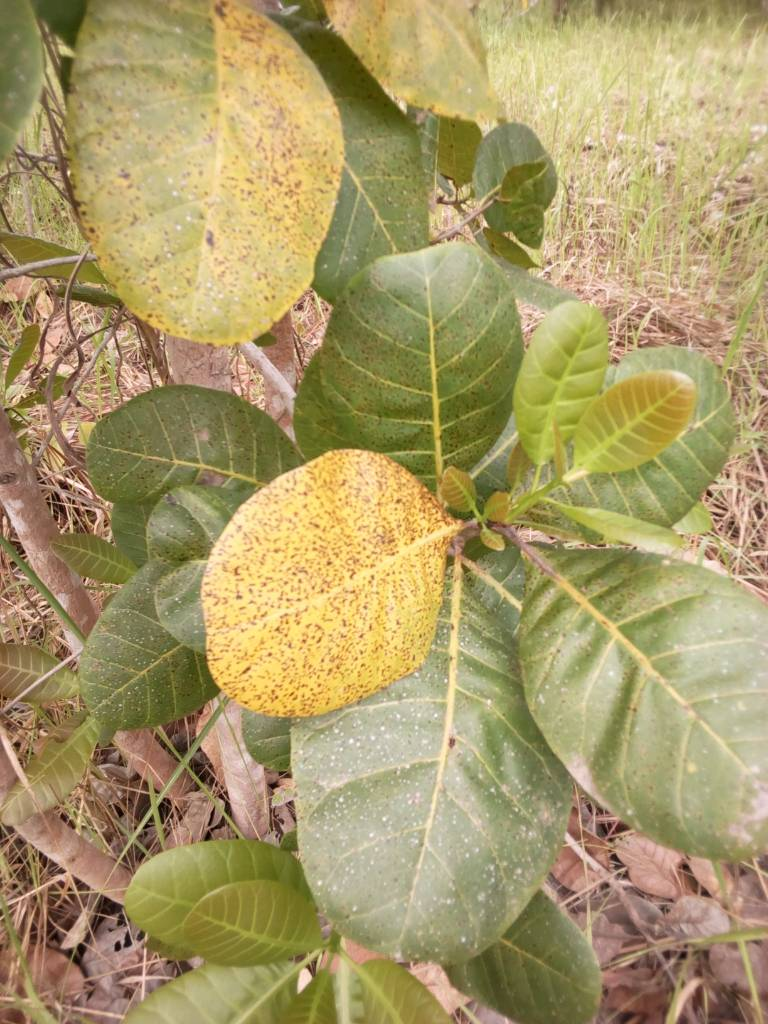Anthracnose: (75, 1, 344, 347), (207, 449, 469, 714), (293, 244, 522, 489), (74, 382, 307, 510)
